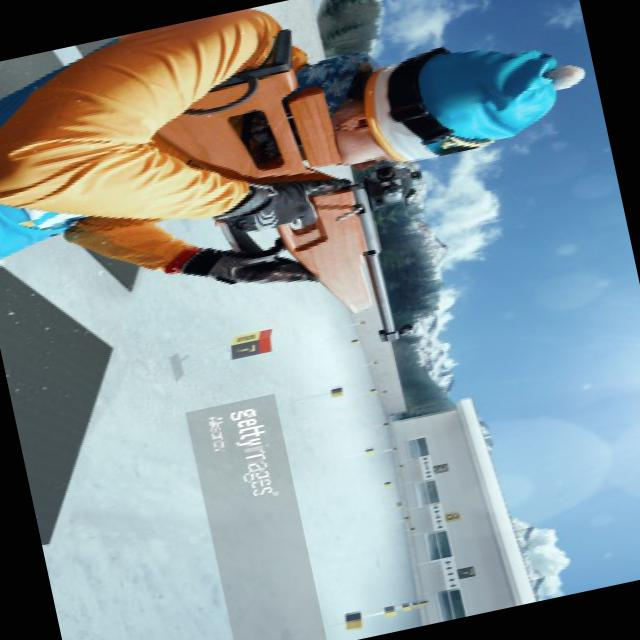long weapon: (154, 26, 442, 394)
